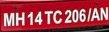character: (3, 12, 15, 26), (99, 6, 109, 21), (15, 12, 25, 26), (43, 10, 53, 24), (52, 10, 62, 24), (90, 7, 100, 21), (34, 11, 43, 25), (64, 9, 72, 23), (71, 8, 78, 23), (78, 8, 85, 22), (27, 11, 33, 25)
